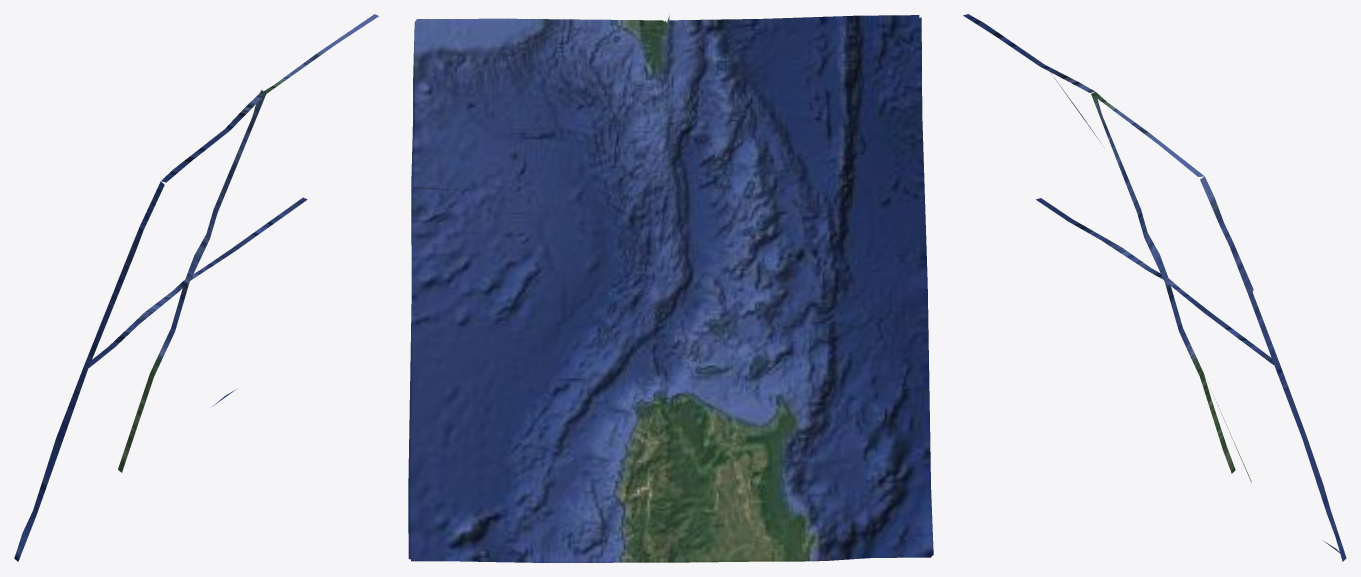
3 renders of one model, left to right at view 1: azimuth 30°, elevation 25°; view 2: azimuth 150°, elevation 25°; view 3: azimuth 270°, elevation 25°, orthographic. The views are drawn at different scales.
Bounding box in the file's own units: 619234 × 603714 × 493533.
1 material, 1 textured.
